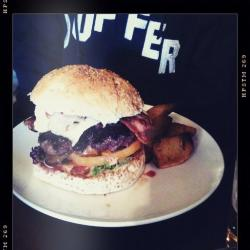burger: (33, 68, 152, 197)
